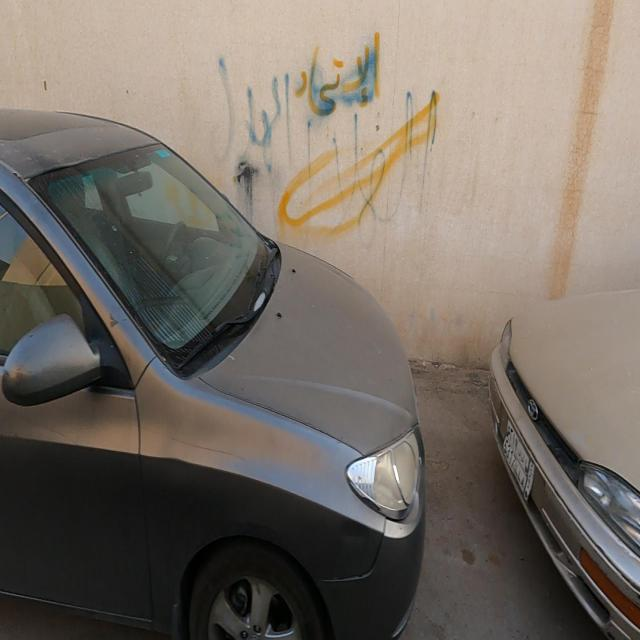Graffiti: (212, 31, 439, 245)
